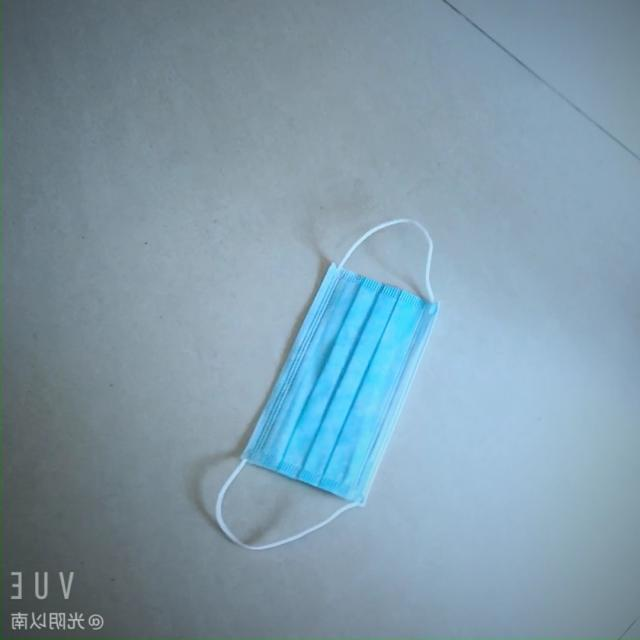face mask: (228, 272, 428, 504)
